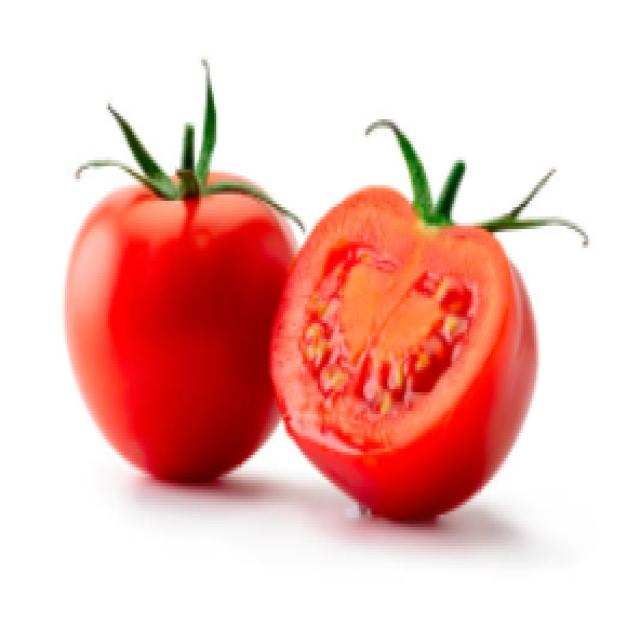Tomato: (251, 135, 543, 523), (66, 102, 295, 488)
